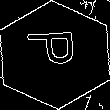P_E: (26, 35, 84, 75)
